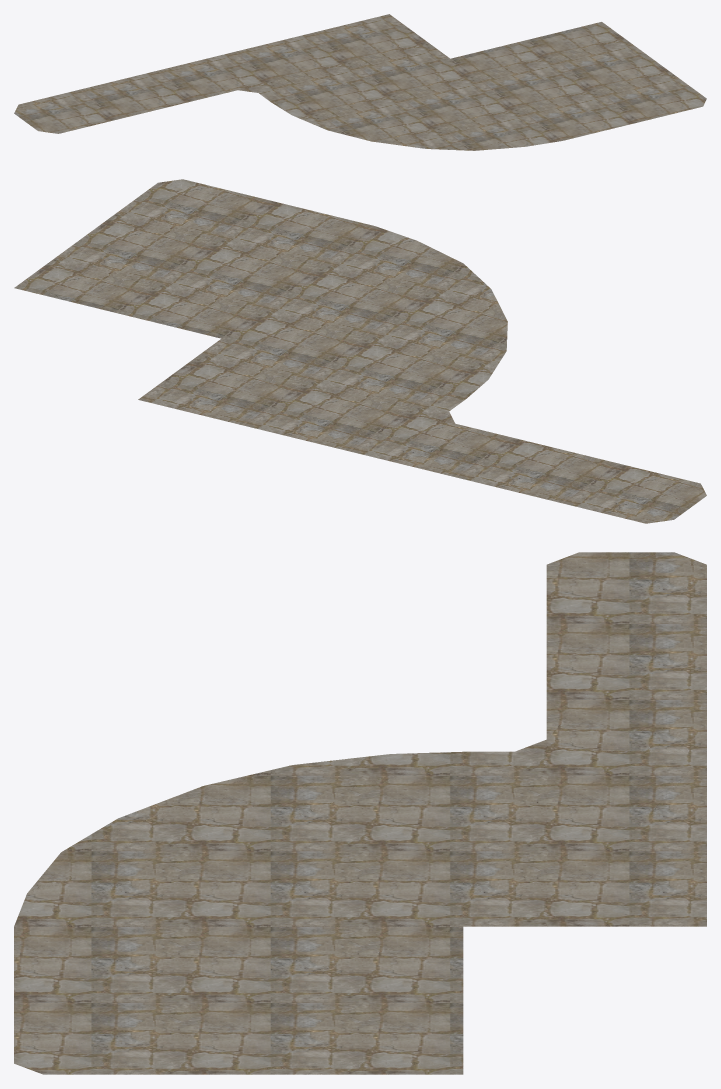
The model's file is CenterPlane2.fbx.
The picture shows the model from 3 angles, top to bottom: view 1: azimuth 30°, elevation 25°; view 2: azimuth 150°, elevation 25°; view 3: azimuth 270°, elevation 25°; orthographic projection. The views are drawn at different scales.
Visible parts, largest first — view 1: LV_Campagna_Flowerbed11_SM_LOK; view 2: LV_Campagna_Flowerbed11_SM_LOK; view 3: LV_Campagna_Flowerbed11_SM_LOK.
Part boxes in pixels (x1,y1,x2,y2): LV_Campagna_Flowerbed11_SM_LOK: (14,14,706,150); LV_Campagna_Flowerbed11_SM_LOK: (14,179,706,523); LV_Campagna_Flowerbed11_SM_LOK: (14,552,706,1074).
Size of the model in its own units: 7.7 by 1.22e-15 by 4.32.
1 material, 1 textured.
